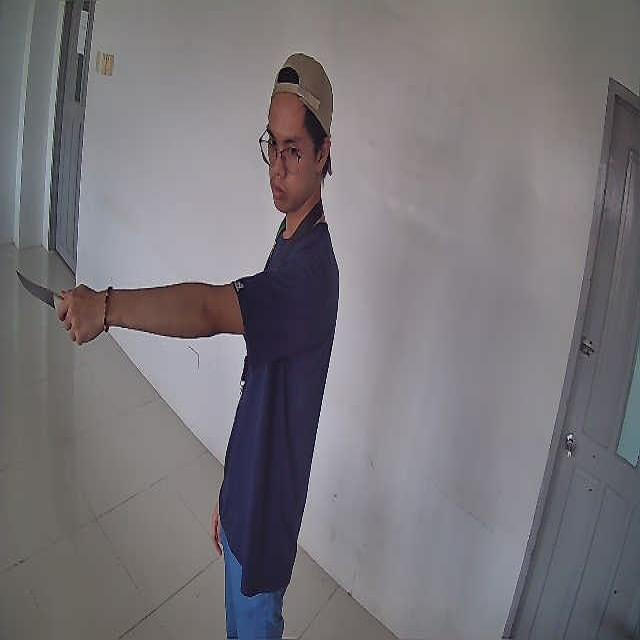knife: (15, 270, 63, 310)
